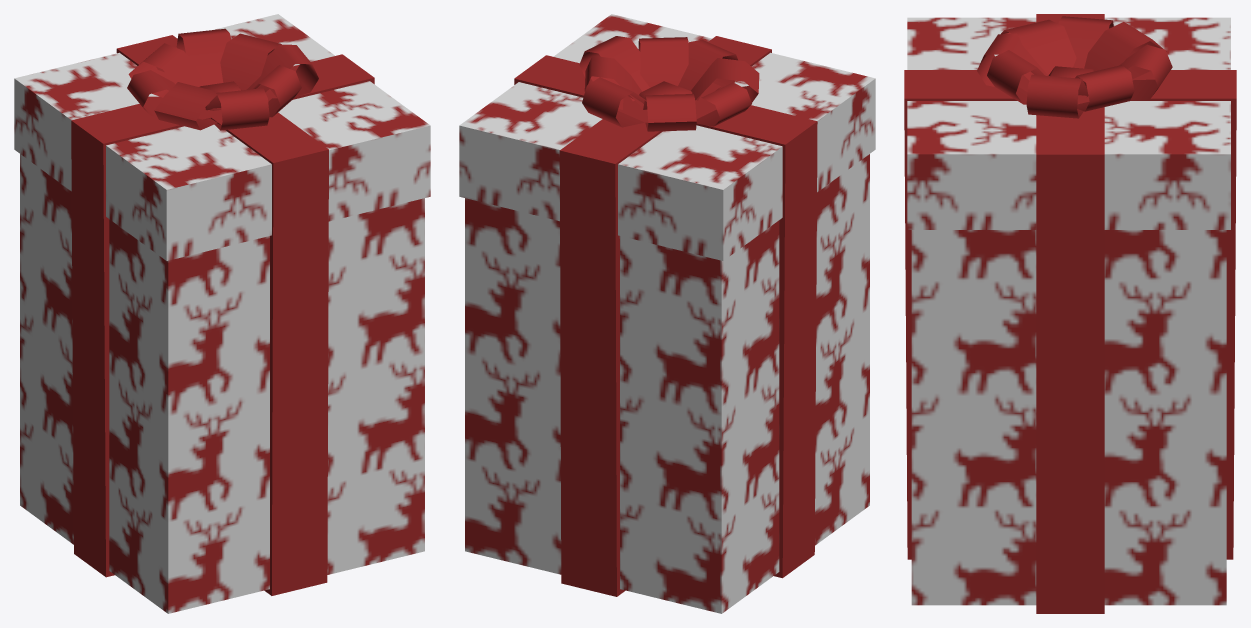
Rendered from christmas_present_03.fbx.
3 views of the same model, side by side, from view 1: azimuth 30°, elevation 25°; view 2: azimuth 150°, elevation 25°; view 3: azimuth 270°, elevation 25° (orthographic). The views are drawn at different scales.
Visible parts, largest first — view 1: xmas-present_03; view 2: xmas-present_03; view 3: xmas-present_03.
Part boxes in pixels (x1=…): xmas-present_03: x1=14, y1=14, x2=430, y2=613; xmas-present_03: x1=459, y1=14, x2=875, y2=613; xmas-present_03: x1=904, y1=14, x2=1236, y2=613.
Bounding box in the file's own units: 26.72 × 44.21 × 26.72.
